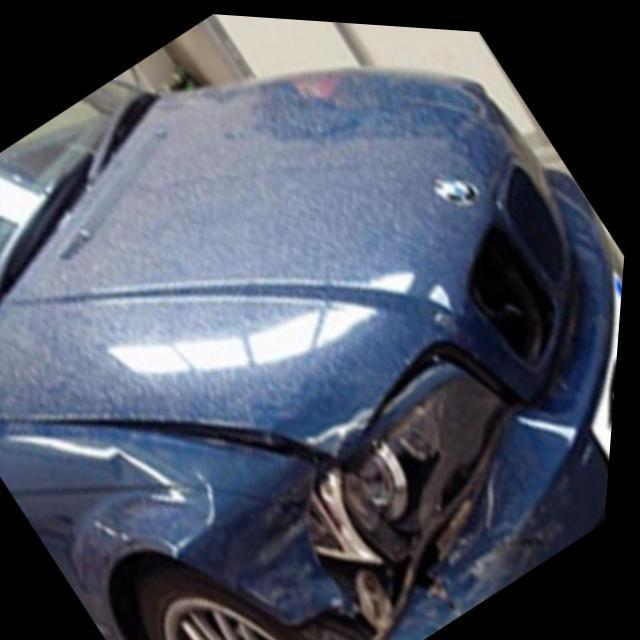dent: (237, 472, 342, 621)
dislocated part: (0, 408, 345, 472)
lamp broken: (314, 371, 505, 640)
rub: (430, 489, 561, 610)
